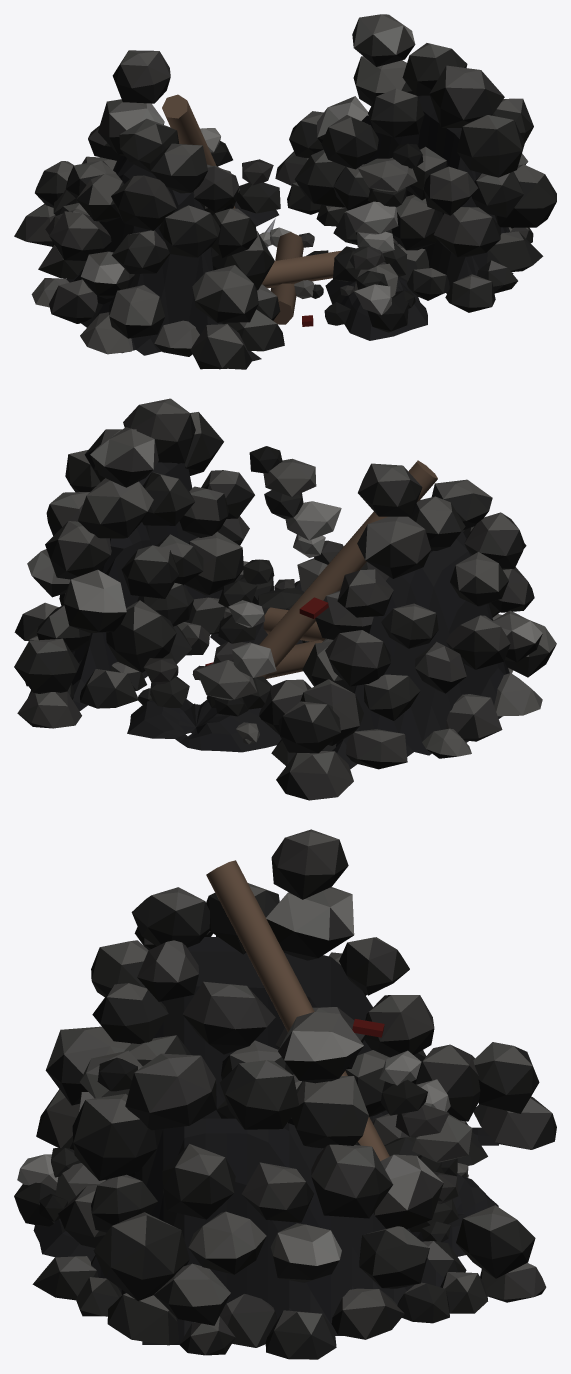
Rendered from TarWall02a.glb.
3 renders of one model, top to bottom at view 1: azimuth 30°, elevation 25°; view 2: azimuth 150°, elevation 25°; view 3: azimuth 270°, elevation 25°, orthographic. The views are drawn at different scales.
Visible parts, largest first — view 1: TarWall02a_gap; view 2: TarWall02a_gap; view 3: TarWall02a_gap.
Part boxes in pixels (left/top/right/bottom): TarWall02a_gap: left=14, top=14, right=556, bottom=369; TarWall02a_gap: left=14, top=398, right=556, bottom=800; TarWall02a_gap: left=14, top=829, right=556, bottom=1359.
Bounding box in the file's own units: 5.73 × 3.01 × 4.66.
